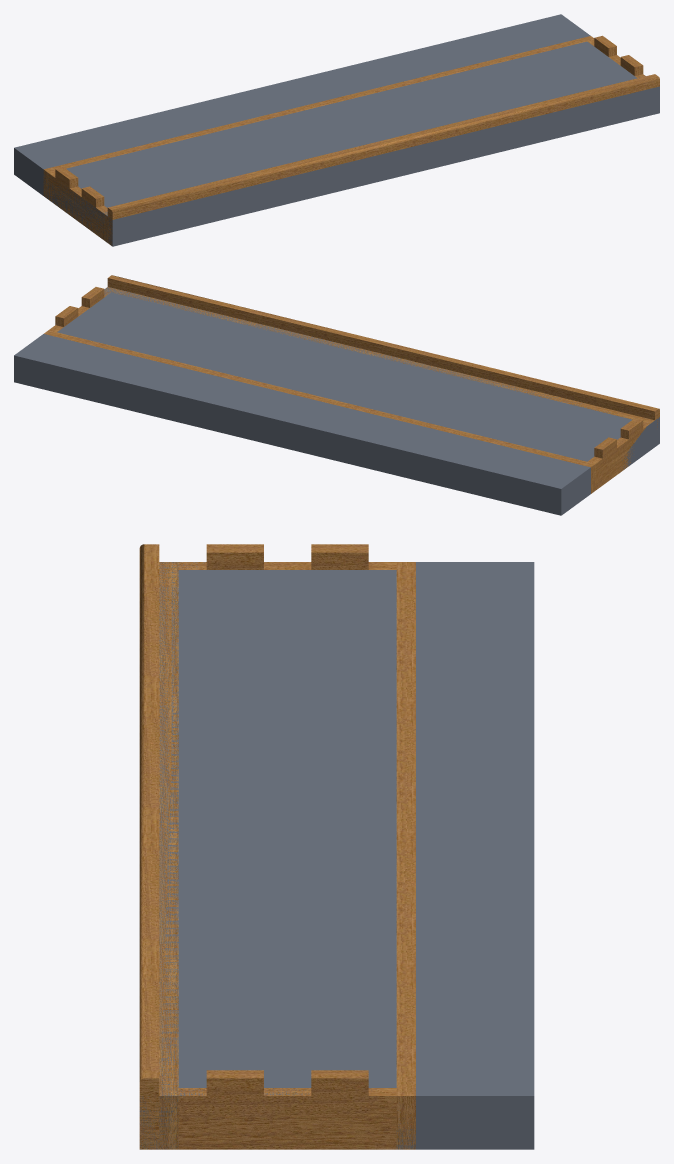
File: VCKS0050.glb
The picture shows the model from 3 angles, top to bottom: view 1: azimuth 30°, elevation 25°; view 2: azimuth 150°, elevation 25°; view 3: azimuth 270°, elevation 25°; orthographic projection. The views are drawn at different scales.
Parts seen in each view (by area): view 1: _bb, G-Group#43.002; view 2: _bb, G-Group#43.002; view 3: _bb, G-Group#43.002.
Part boxes in pixels (box(x1,y1,x2,y2)): _bb: box(14, 14, 659, 246); G-Group#43.002: box(43, 35, 659, 245); _bb: box(14, 287, 659, 515); G-Group#43.002: box(44, 275, 659, 493); _bb: box(139, 562, 534, 1149); G-Group#43.002: box(139, 544, 415, 1149).
Size of the model in its own units: 0.812 by 0.0505 by 0.2536.
3 materials, 2 textured.
